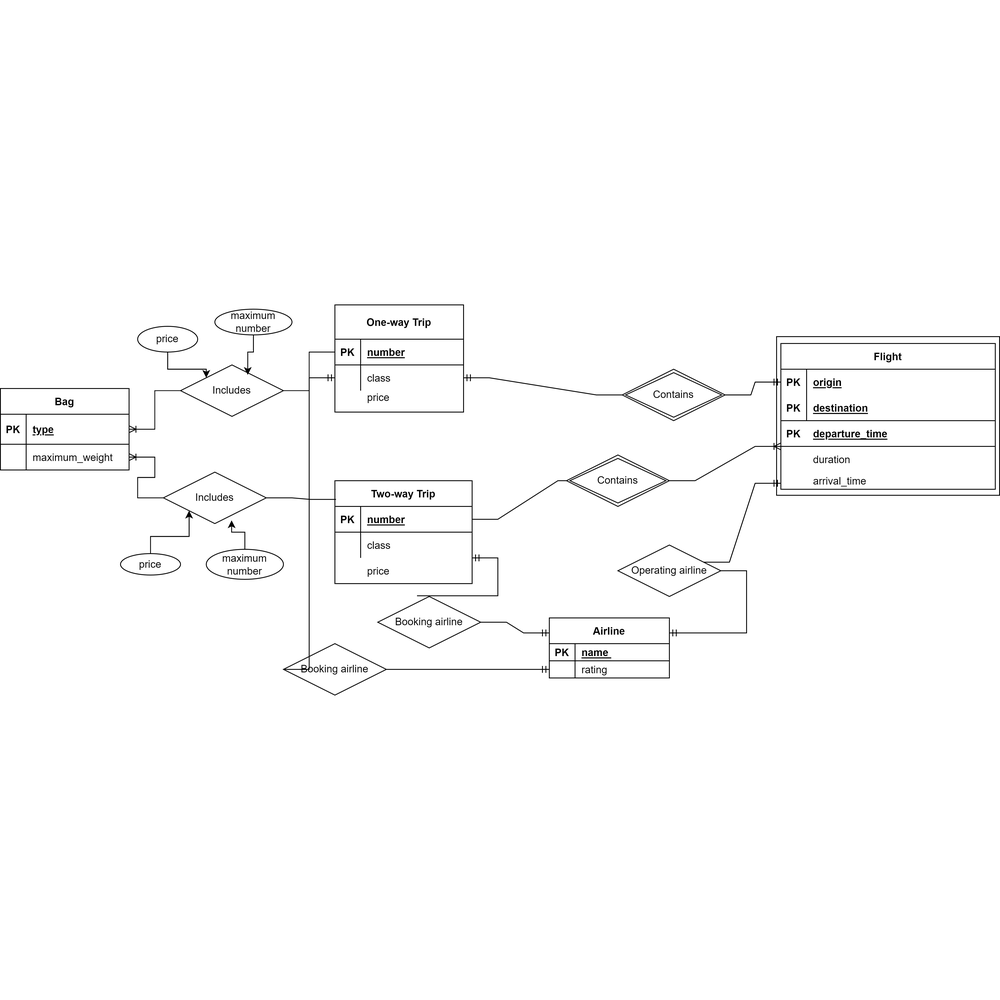attribute: (207, 544, 294, 589), (211, 302, 300, 335), (110, 545, 187, 581), (123, 322, 199, 355)
entity: (771, 327, 1000, 521), (327, 282, 479, 434), (315, 467, 482, 589), (532, 607, 685, 687), (1, 381, 127, 471)
relationship: (549, 445, 684, 510), (617, 535, 730, 599), (614, 369, 741, 424), (157, 471, 277, 527), (378, 592, 489, 652), (176, 362, 288, 419), (278, 644, 391, 697)
